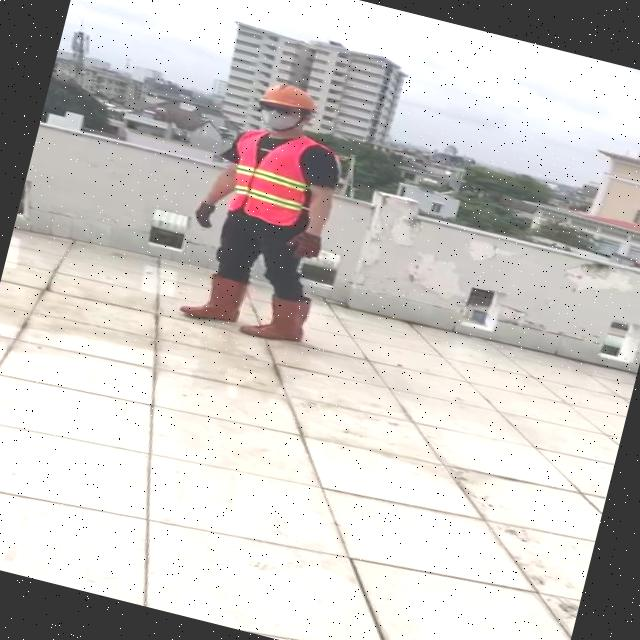boots: (239, 286, 315, 350), (180, 268, 250, 329)
